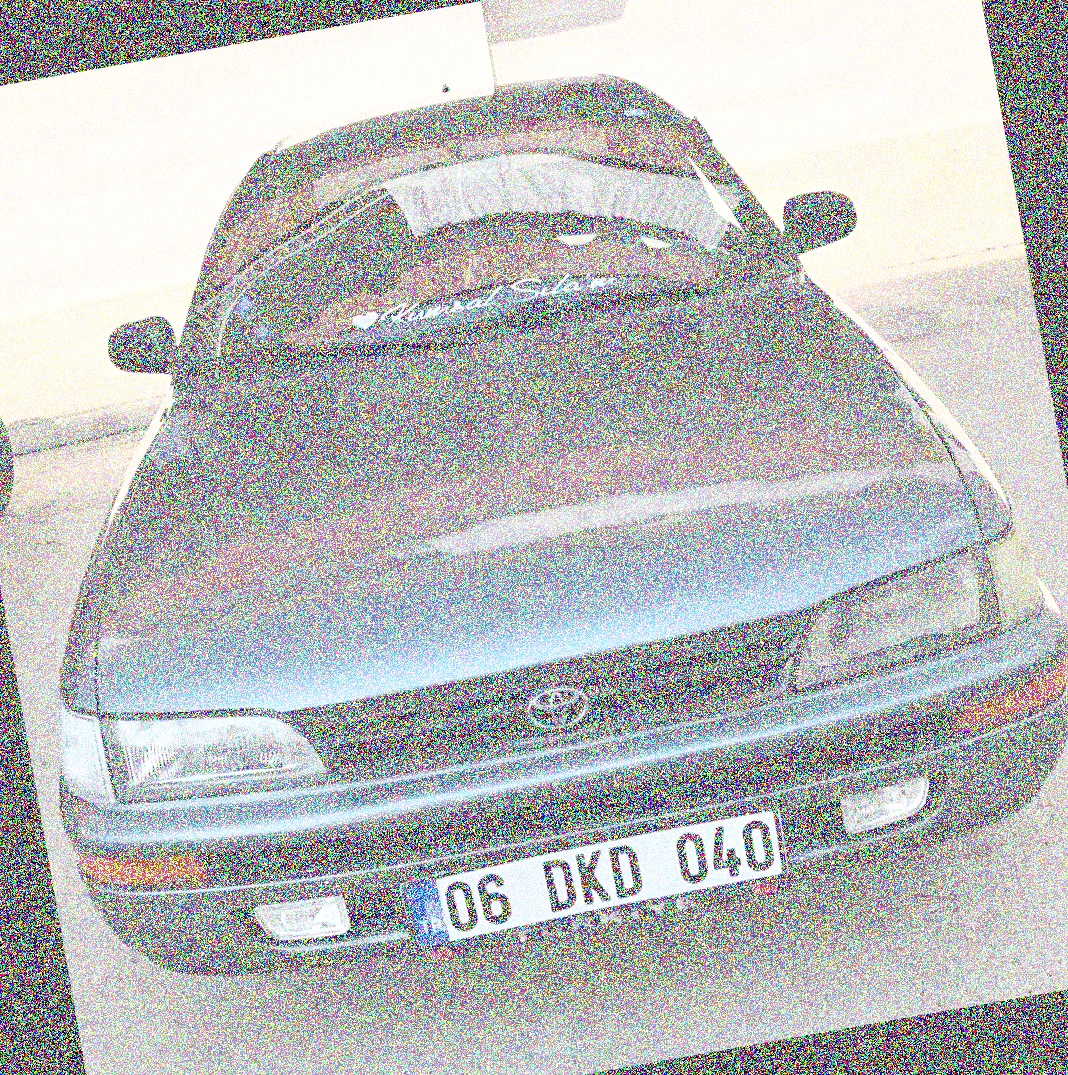plaka: (436, 812, 787, 937)
